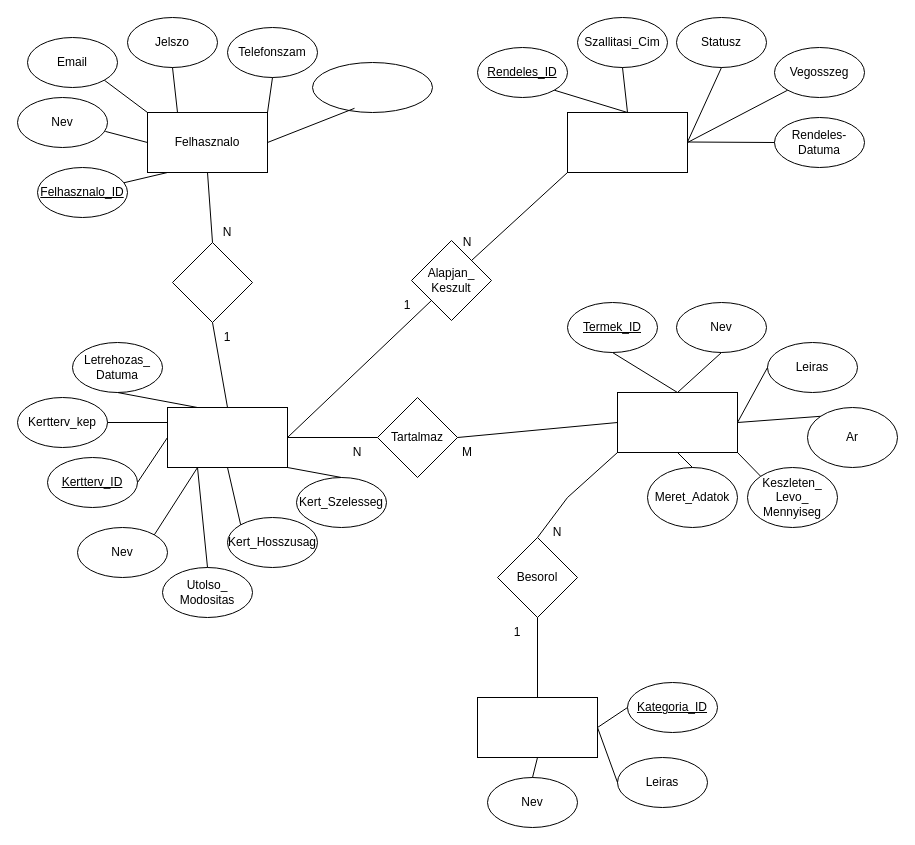
Some shapes in this 915 by 845 pixel diagram are drawn without their labels. The shapes that lost their labels are listed below. From the top down, each one's centre as x and y in pixels, then its label:
At pixel 372 87: "Regisztracio_Datuma".
At pixel 627 142: "Rendeles".
At pixel 212 282: "Tervez".
At pixel 227 437: "Kertterv".
At pixel 677 422: "Termek".
At pixel 537 727: "Kategoria".
